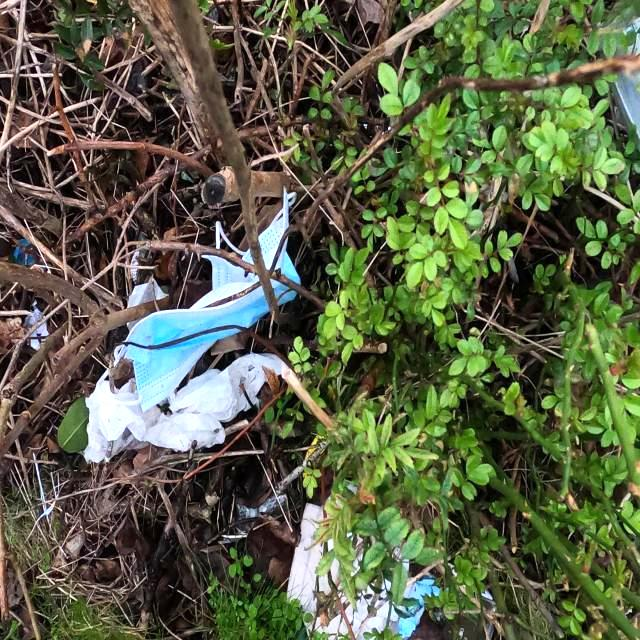Mask: (95, 184, 301, 414)
Paper: (82, 352, 290, 464)
